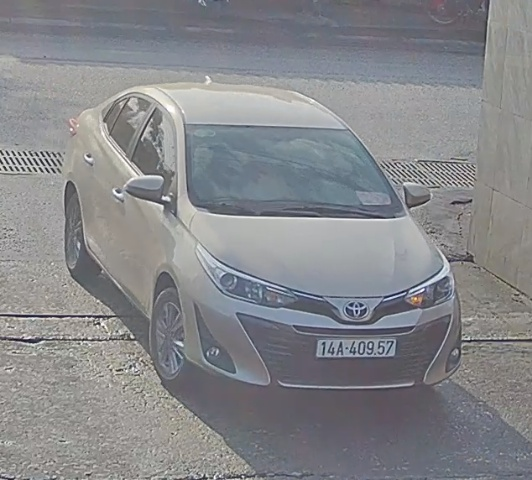vehicle plate: (307, 333, 401, 361)
